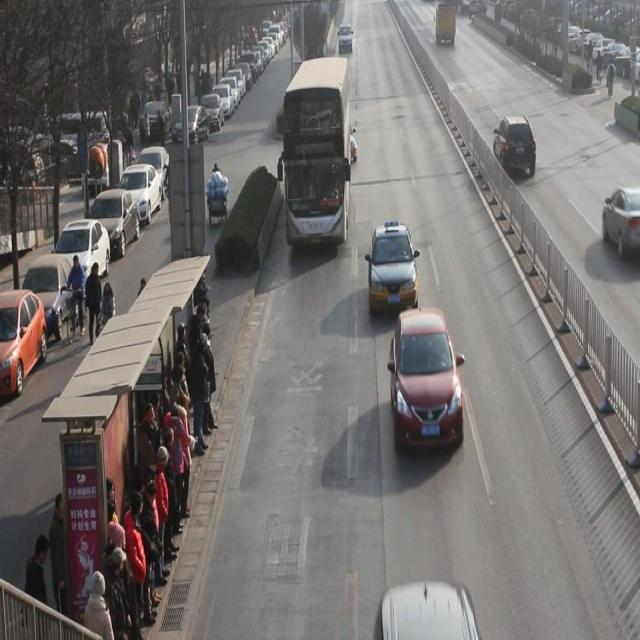car: (390, 309, 465, 452), (370, 224, 420, 316), (602, 184, 640, 258), (494, 116, 536, 180)
van: (281, 58, 346, 245)
